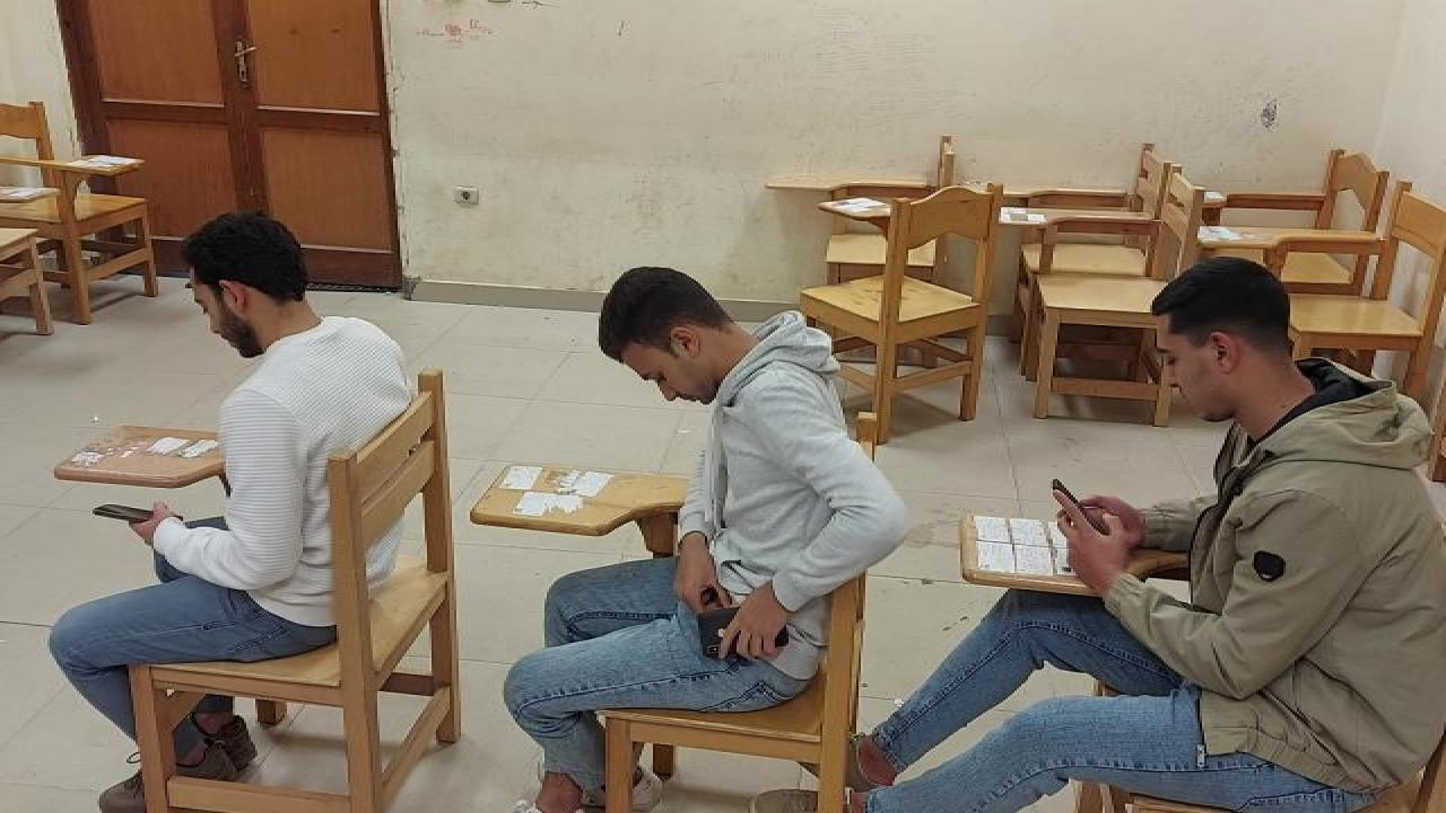phone: (695, 609, 792, 655), (1049, 475, 1110, 539), (92, 502, 189, 525)
